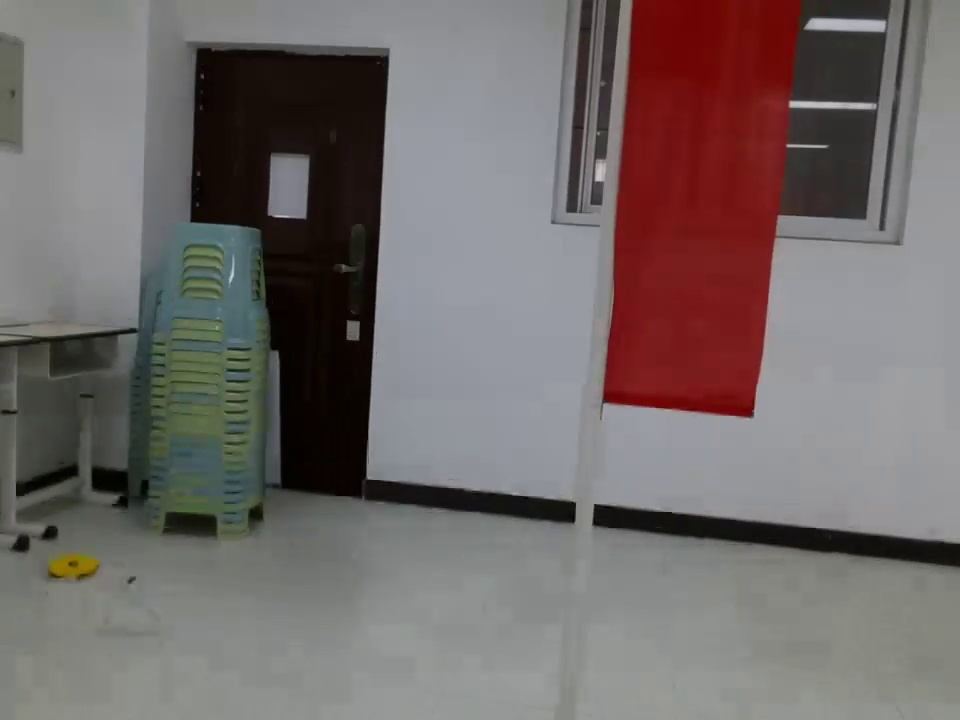qi: (575, 6, 804, 436)
